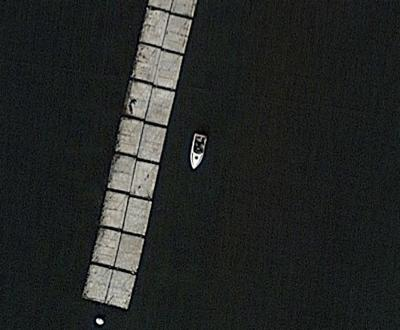Ships: (188, 126, 216, 177)
